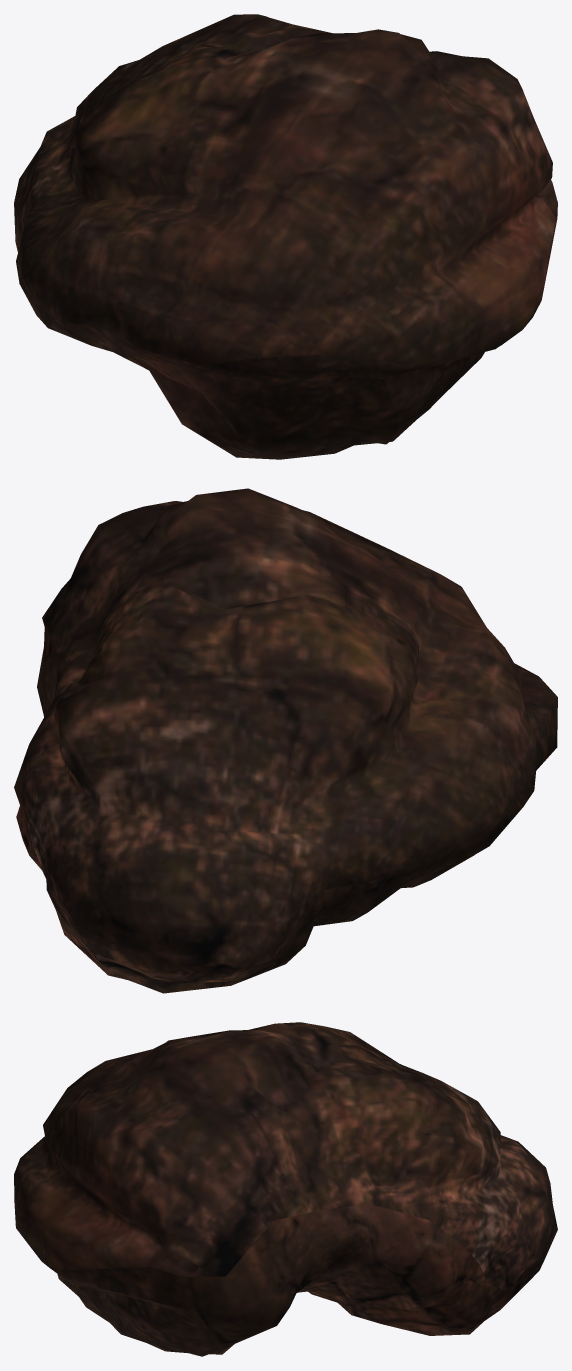
Rendered from rock_red_small06_projected.dae.
3 renders of one model, top to bottom at view 1: azimuth 30°, elevation 25°; view 2: azimuth 150°, elevation 25°; view 3: azimuth 270°, elevation 25°, orthographic. The views are drawn at different scales.
Visible parts, largest first — view 1: Mesh04; view 2: Mesh04; view 3: Mesh04.
Part boxes in pixels (x1,y1,x2,y2): Mesh04: (14,14,557,459); Mesh04: (14,488,557,993); Mesh04: (14,1022,557,1356).
Size of the model in its own units: 1.72 by 1.28 by 2.
